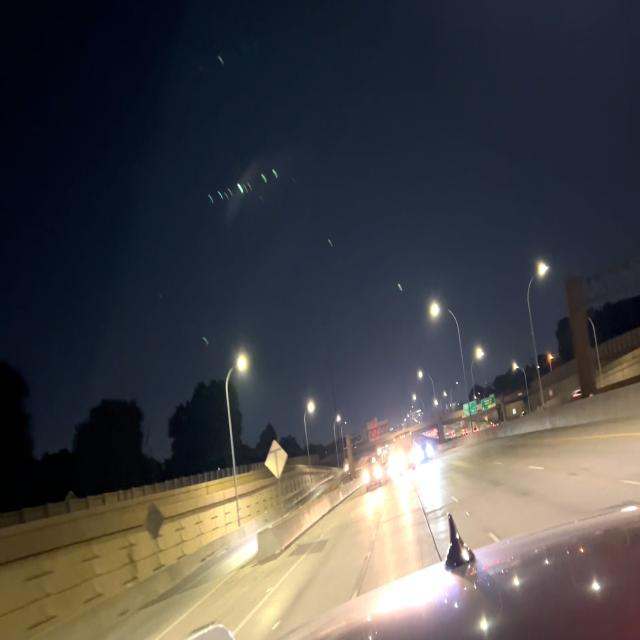back-of-sign: (264, 437, 289, 482)
